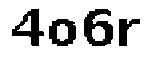6: (82, 2, 117, 54)
c: (8, 3, 47, 52)
o: (47, 16, 79, 50)
r: (116, 17, 144, 50)
